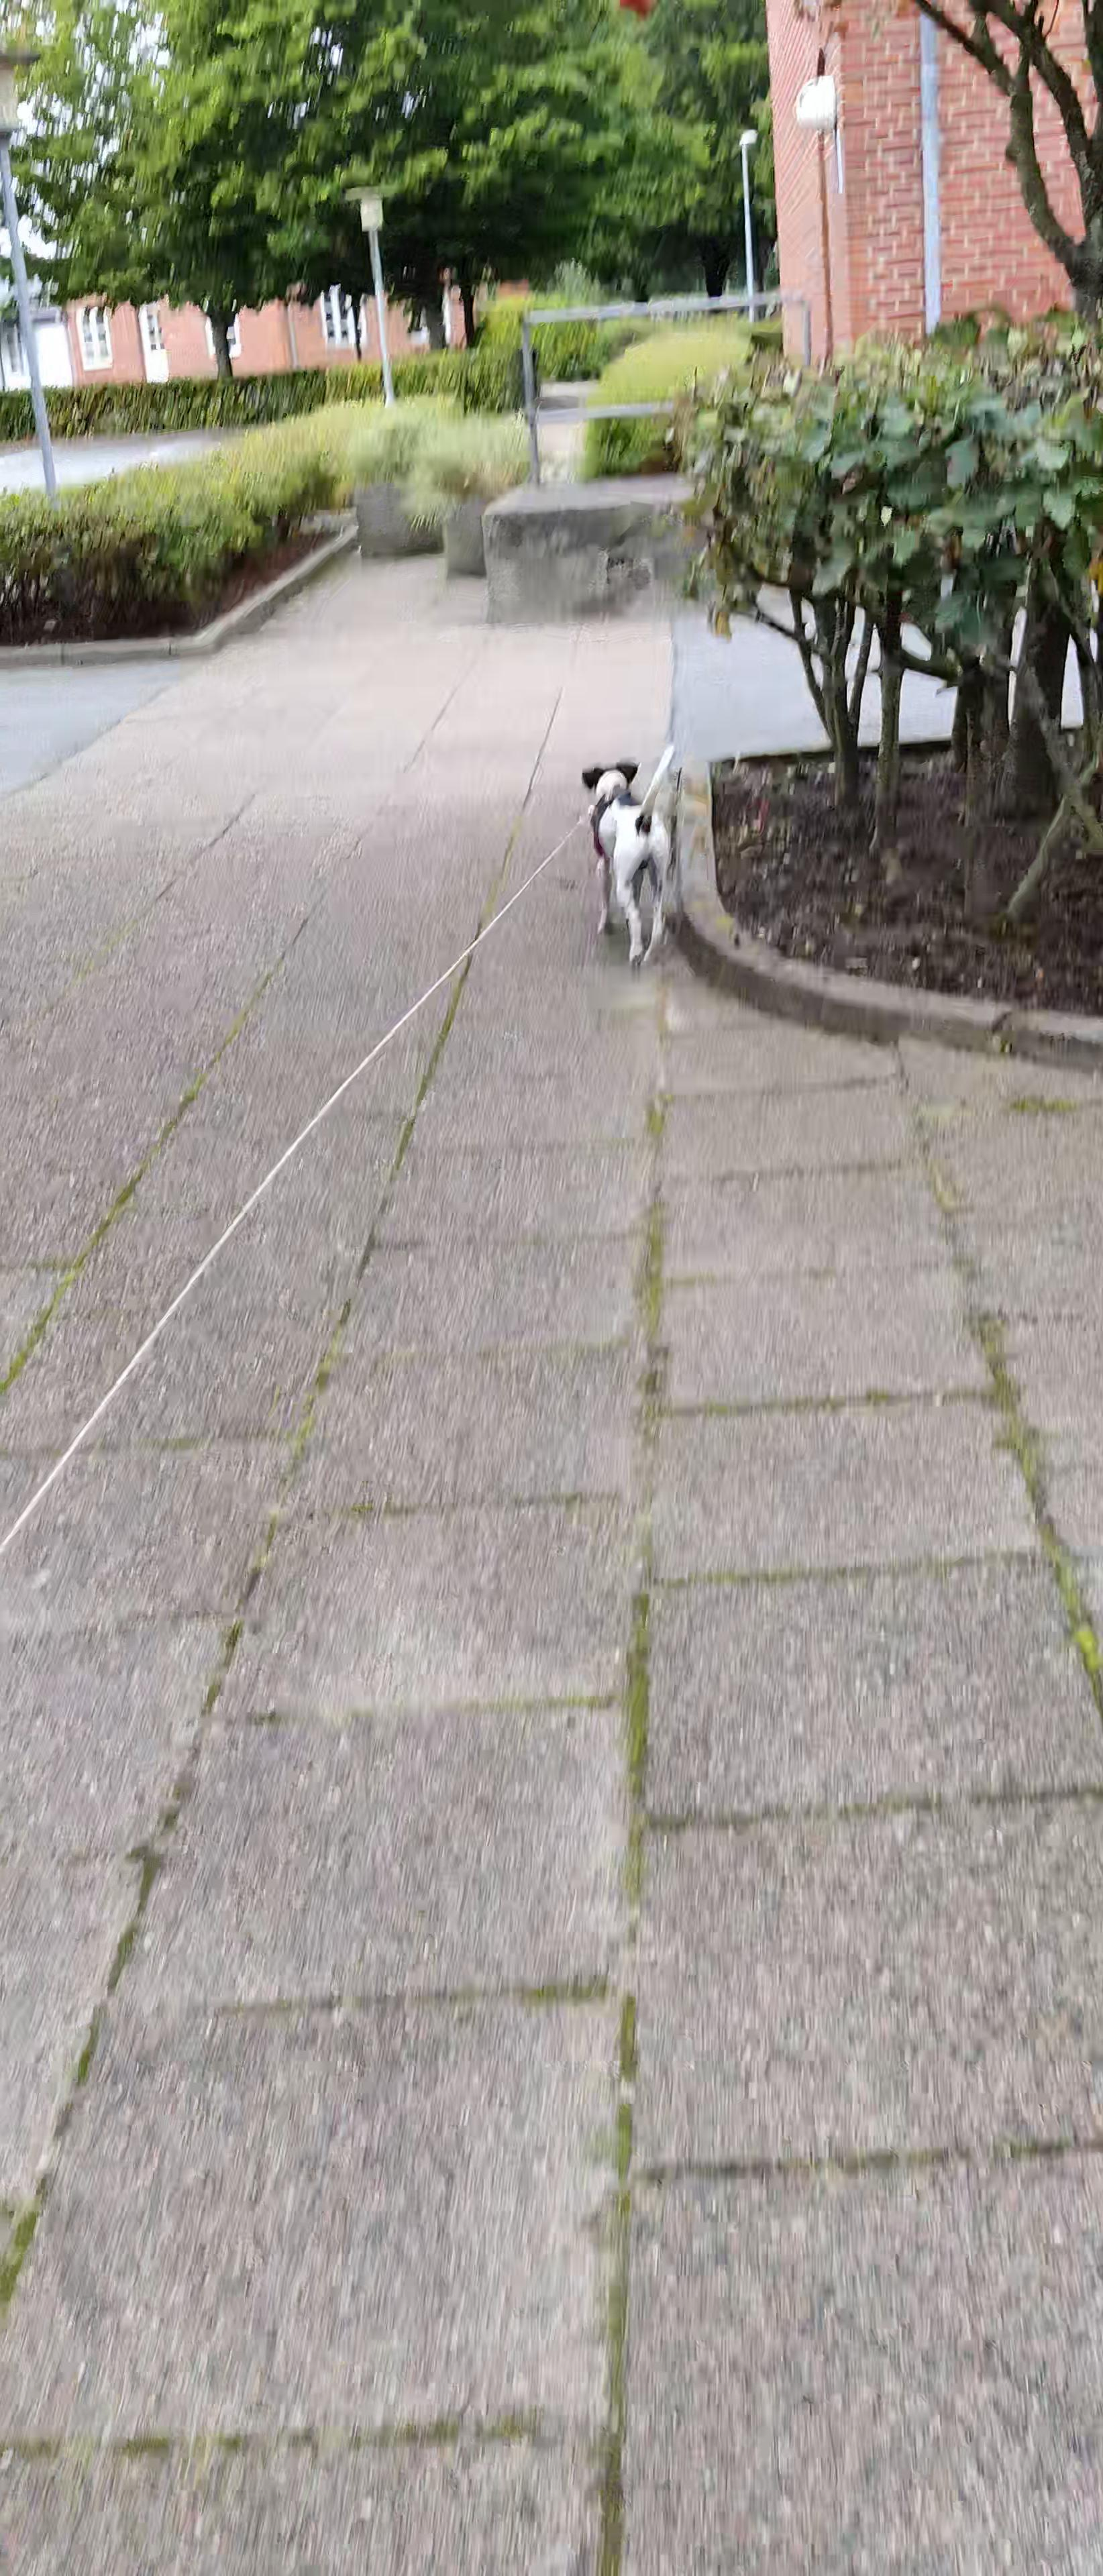Dog: (577, 741, 679, 977)
